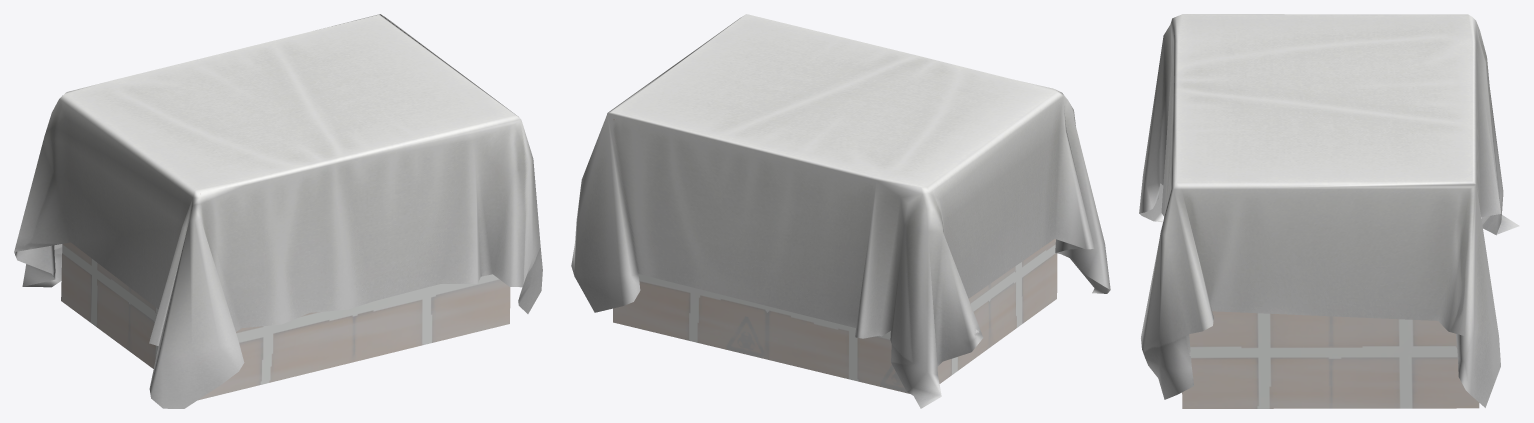
Rendered from Pfb_Box_GRP__18.fbx.
3 views of the same model, side by side, from view 1: azimuth 30°, elevation 25°; view 2: azimuth 150°, elevation 25°; view 3: azimuth 270°, elevation 25° (orthographic). The views are drawn at different scales.
Parts seen in each view (by area): view 1: MAT_Canvas_01_White, Mat_BoxGroup_02_Blue; view 2: MAT_Canvas_01_White, Mat_BoxGroup_02_Blue; view 3: MAT_Canvas_01_White, Mat_BoxGroup_02_Blue.
Part boxes in pixels (bbox=[...]): MAT_Canvas_01_White: bbox=[14, 14, 542, 408]; Mat_BoxGroup_02_Blue: bbox=[61, 193, 510, 400]; MAT_Canvas_01_White: bbox=[571, 14, 1110, 408]; Mat_BoxGroup_02_Blue: bbox=[613, 91, 1058, 393]; MAT_Canvas_01_White: bbox=[1139, 14, 1519, 407]; Mat_BoxGroup_02_Blue: bbox=[1176, 16, 1479, 408].
Bounding box in the file's own units: 2.45 × 1.19 × 1.79.
2 materials, 2 textured.
